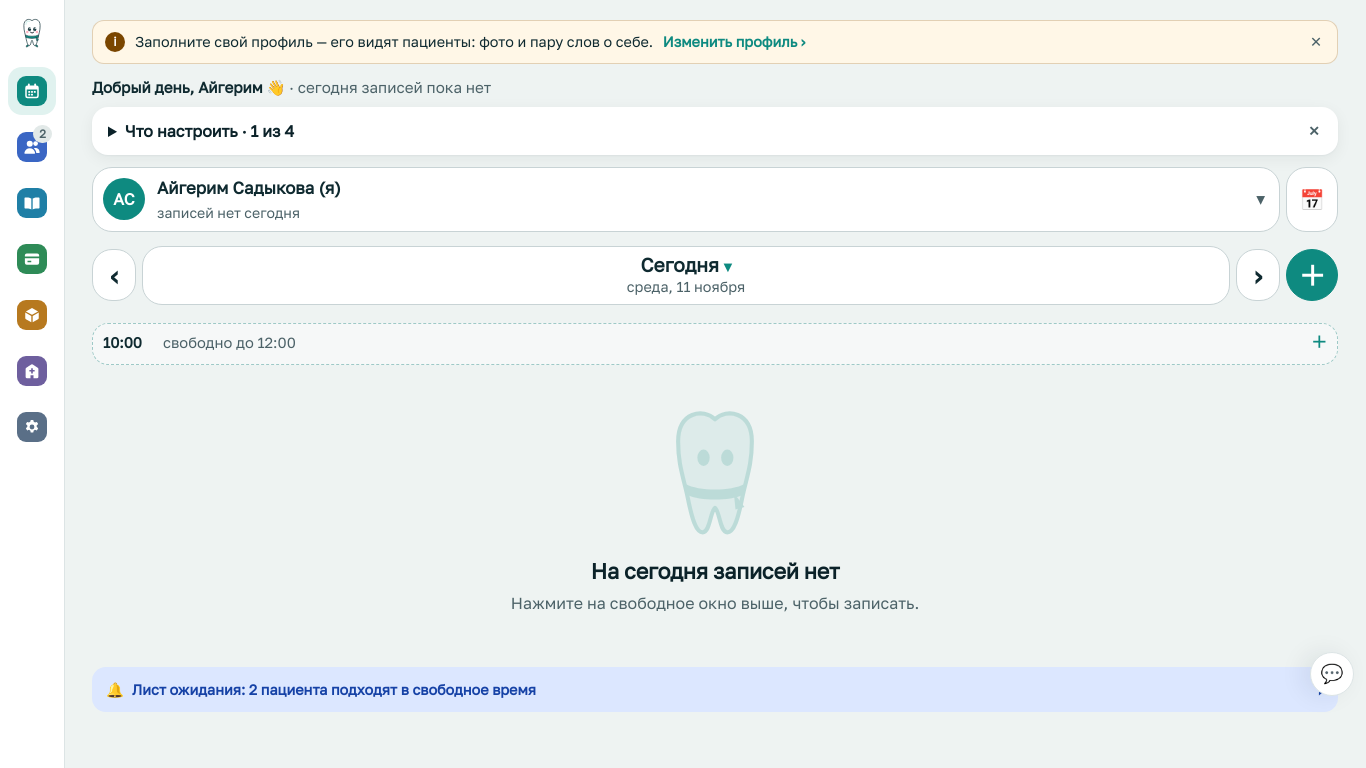
Test: лист ожидания — одной строкой под днём, а не «🔔 N из листа» у каждого свободного окна; нажать — «Окна» с «Предложить»
Check: the text "из листа" is not shown
Click the button "🔔 Лист ожидания: 2 пациента подходят в свободное время ›" at (190, 689), box [92,667,1338,712]
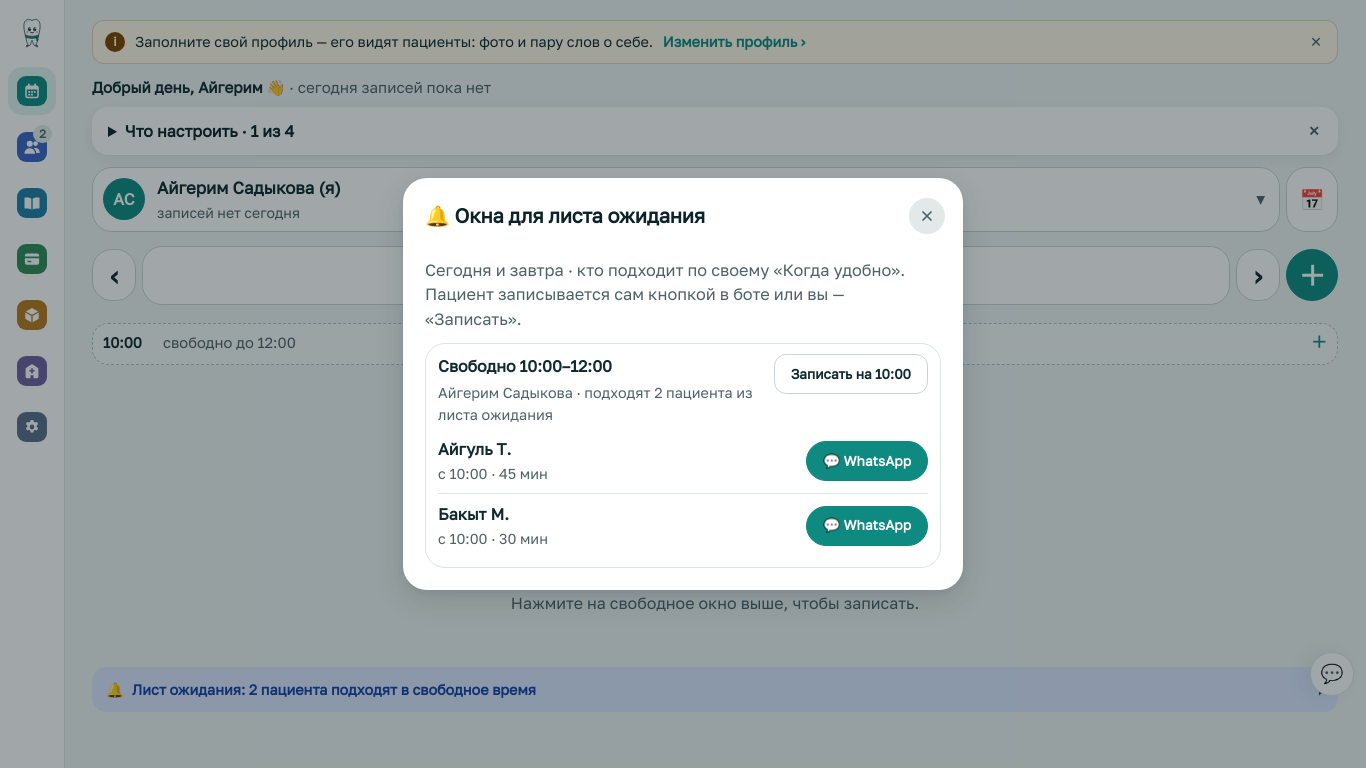
Check: the element "Свободно 10:00–12:00" is shown, box [425,343,941,568]
